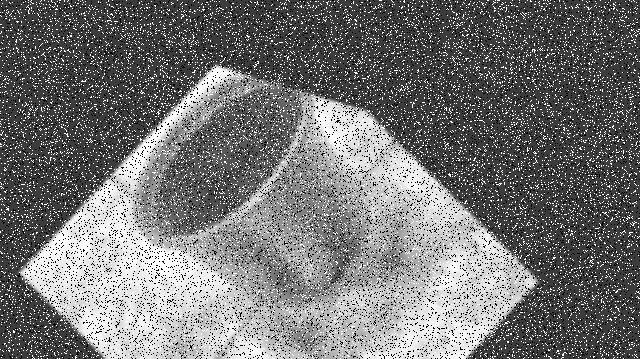pot: (133, 72, 368, 306)
